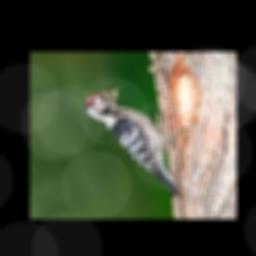Woodpecker: (84, 84, 189, 196)
